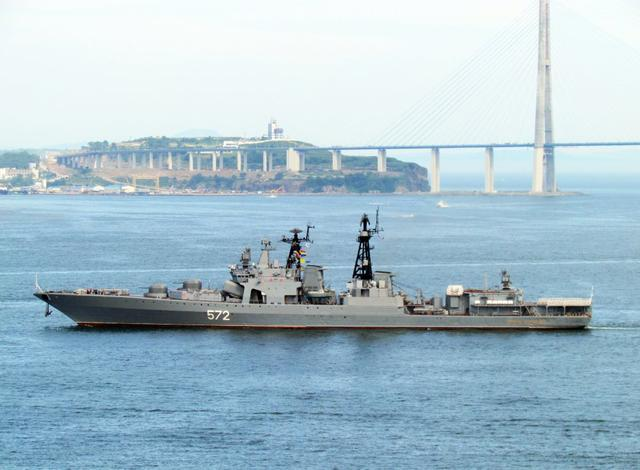warship: (27, 208, 593, 333)
